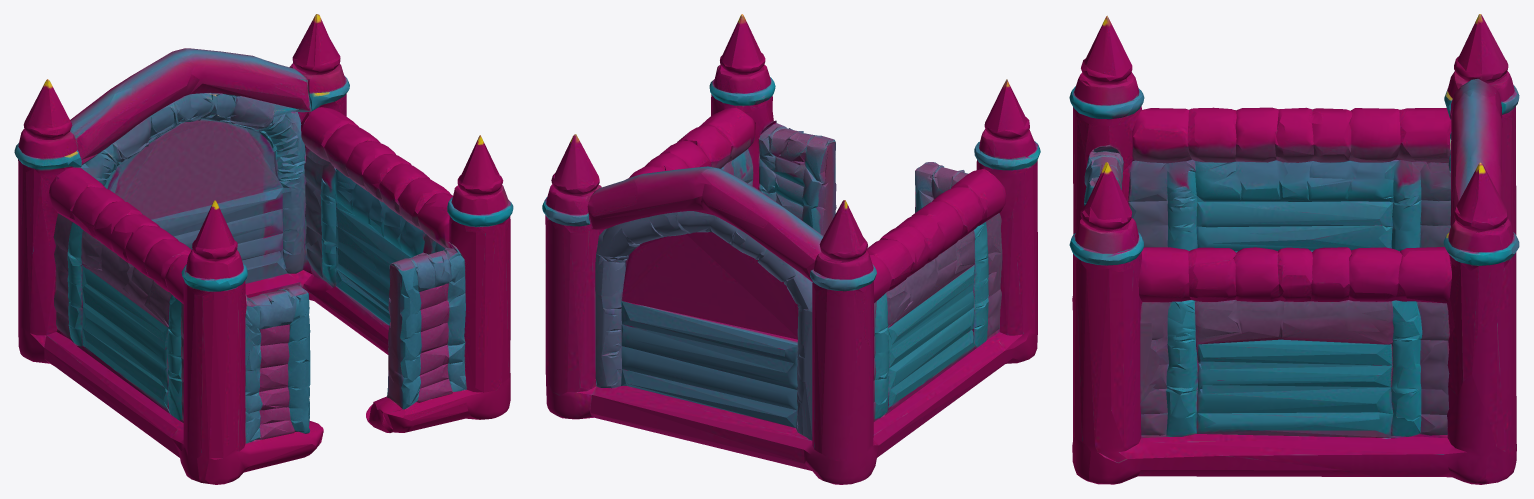
File: finish-line-bouncy-castle.glb
3 renders of one model, left to right at view 1: azimuth 30°, elevation 25°; view 2: azimuth 150°, elevation 25°; view 3: azimuth 270°, elevation 25°, orthographic. The views are drawn at different scales.
Parts seen in each view (by area): view 1: mesh_node; view 2: mesh_node; view 3: mesh_node.
Part boxes in pixels (x1,y1,x2,y2): mesh_node: [14, 14, 513, 484]; mesh_node: [542, 14, 1040, 484]; mesh_node: [1069, 14, 1519, 484].
Bounding box in the file's own units: 1.8 × 1.46 × 1.9.
Materials: 1 (1 with a texture image).
